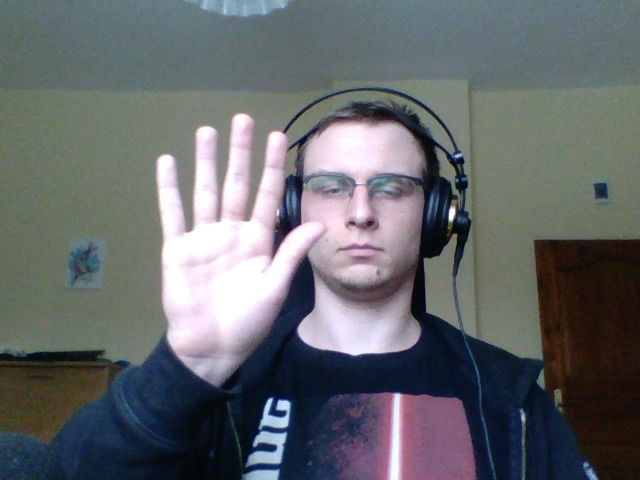hello: (143, 110, 329, 397)
